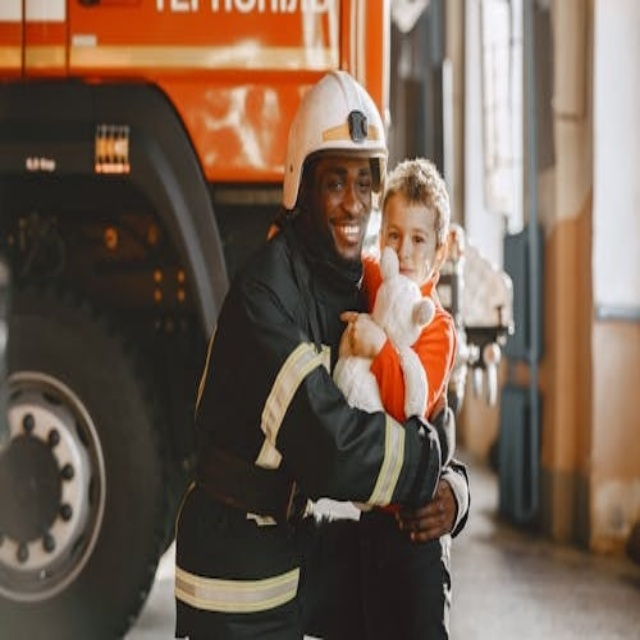Sin_gafas: (320, 161, 372, 204), (383, 215, 430, 244)
Sin_guantes: (392, 473, 462, 546), (333, 302, 385, 356)
Sin_mascara: (330, 215, 365, 250), (398, 259, 417, 279)
